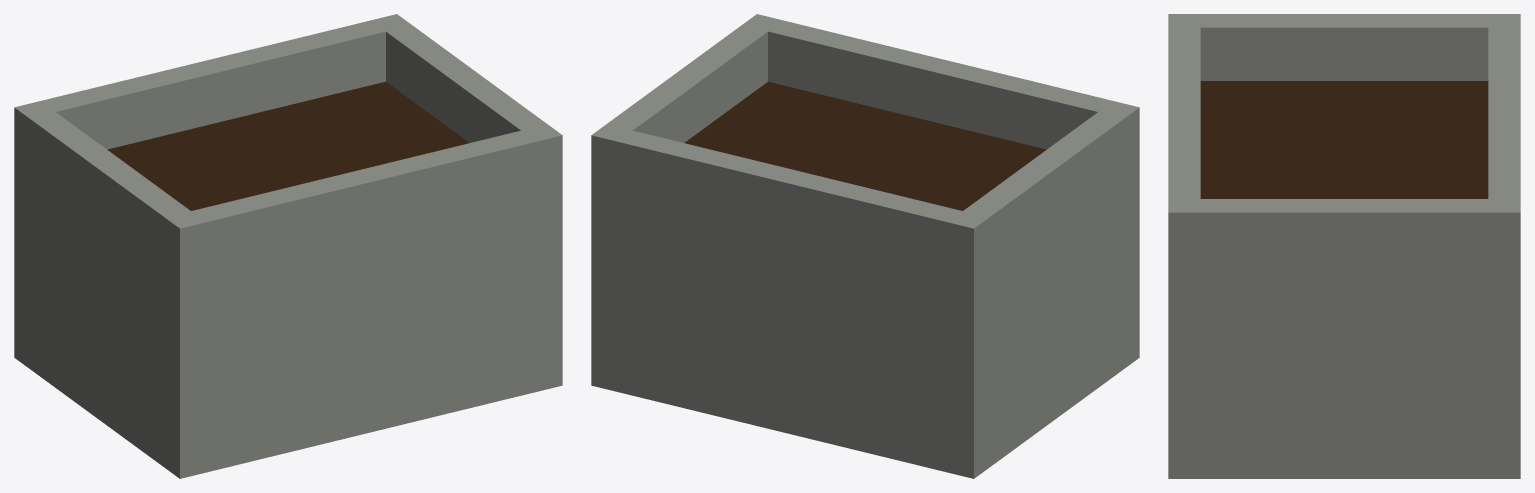
Rendered from planter-trough.lod1.glb.
The picture shows the model from 3 angles, left to right: view 1: azimuth 30°, elevation 25°; view 2: azimuth 150°, elevation 25°; view 3: azimuth 270°, elevation 25°; orthographic projection. The views are drawn at different scales.
Parts seen in each view (by area): view 1: planter-trough-shell-and-soil; view 2: planter-trough-shell-and-soil; view 3: planter-trough-shell-and-soil.
Boxes of the visible parts, x1,y1,x2,y2 form: planter-trough-shell-and-soil: (14,14,562,478); planter-trough-shell-and-soil: (591,14,1139,478); planter-trough-shell-and-soil: (1168,14,1520,478).
Bounding box in the file's own units: 0.8 × 0.5 × 0.6.
